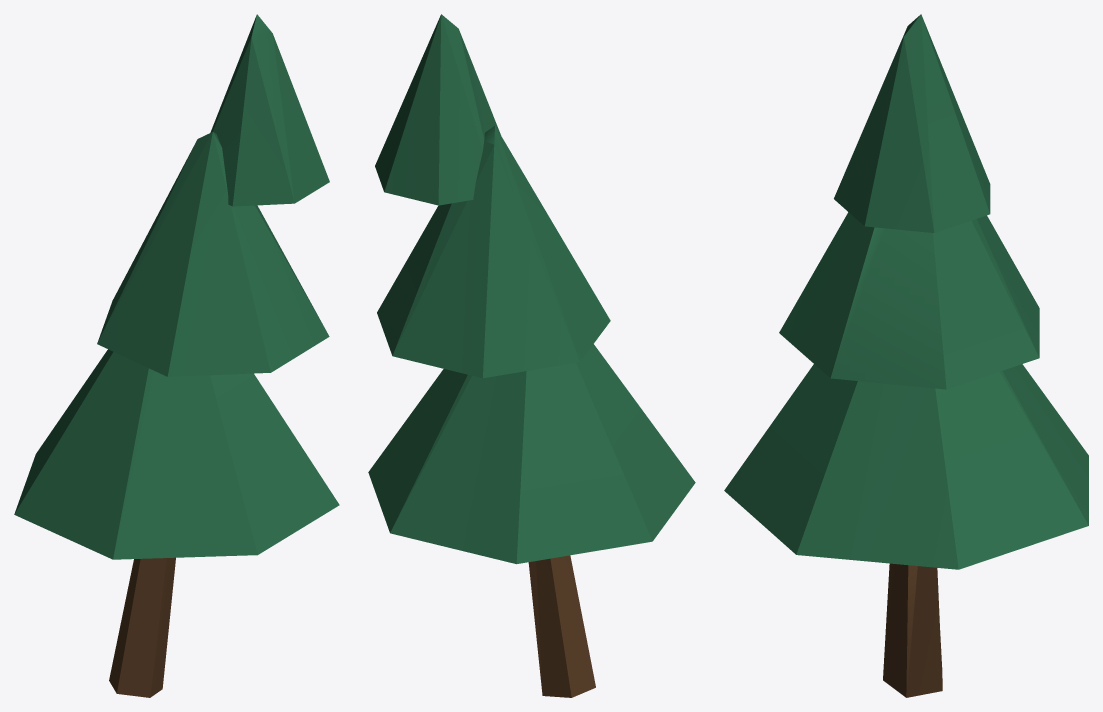
The model's file is prop_windpine_lod2.glb.
3 views of the same model, side by side, from view 1: azimuth 30°, elevation 25°; view 2: azimuth 150°, elevation 25°; view 3: azimuth 270°, elevation 25° (orthographic). The views are drawn at different scales.
Parts seen in each view (by area): view 1: prop_windpine_lod2; view 2: prop_windpine_lod2; view 3: prop_windpine_lod2.
Part boxes in pixels (box(x1,y1,x2,y2)): prop_windpine_lod2: box(14, 14, 339, 697); prop_windpine_lod2: box(368, 14, 695, 697); prop_windpine_lod2: box(724, 14, 1088, 697).
Bounding box in the file's own units: 1.93 × 4.15 × 1.85.
